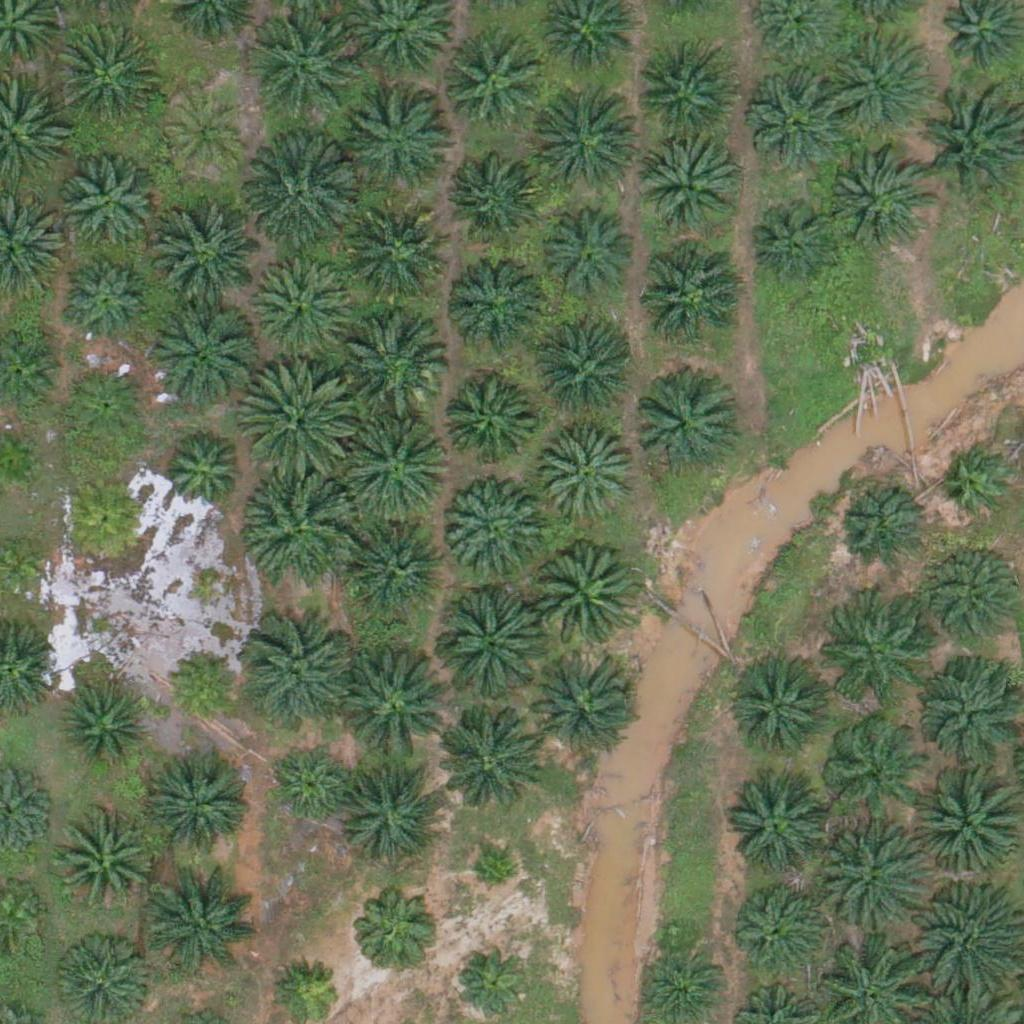Kelapa_Sawit: (243, 12, 356, 126), (812, 823, 925, 936), (431, 588, 544, 701), (428, 705, 541, 818), (246, 469, 359, 582), (243, 617, 356, 730), (336, 305, 449, 418), (243, 138, 356, 251), (335, 647, 447, 761), (339, 406, 451, 520), (241, 358, 353, 472), (148, 866, 260, 979), (527, 540, 639, 653), (524, 648, 636, 761), (340, 757, 452, 870), (819, 25, 931, 138), (531, 83, 643, 196), (52, 21, 164, 134), (150, 204, 262, 317), (145, 297, 257, 410), (53, 812, 153, 913), (150, 751, 250, 852), (816, 605, 916, 706), (822, 717, 922, 818), (728, 871, 828, 972), (728, 779, 828, 880), (734, 653, 834, 754), (631, 377, 731, 478), (538, 426, 638, 527), (436, 371, 536, 472), (443, 479, 543, 580), (825, 149, 925, 250), (750, 66, 850, 167), (634, 135, 734, 236), (634, 47, 734, 148), (252, 259, 352, 360), (57, 153, 157, 254), (923, 540, 1023, 640), (536, 328, 636, 428), (350, 517, 450, 617), (640, 245, 740, 345), (536, 204, 636, 304), (448, 249, 548, 349), (440, 29, 540, 129), (445, 145, 545, 245), (351, 95, 451, 195), (343, 208, 443, 308), (61, 473, 149, 562), (267, 743, 355, 831), (61, 360, 149, 448), (838, 481, 926, 569), (352, 880, 440, 968), (162, 91, 250, 179), (63, 256, 150, 345), (60, 684, 147, 772), (157, 428, 244, 516), (751, 197, 838, 285), (164, 645, 239, 721), (941, 447, 1016, 523), (469, 851, 519, 901)
